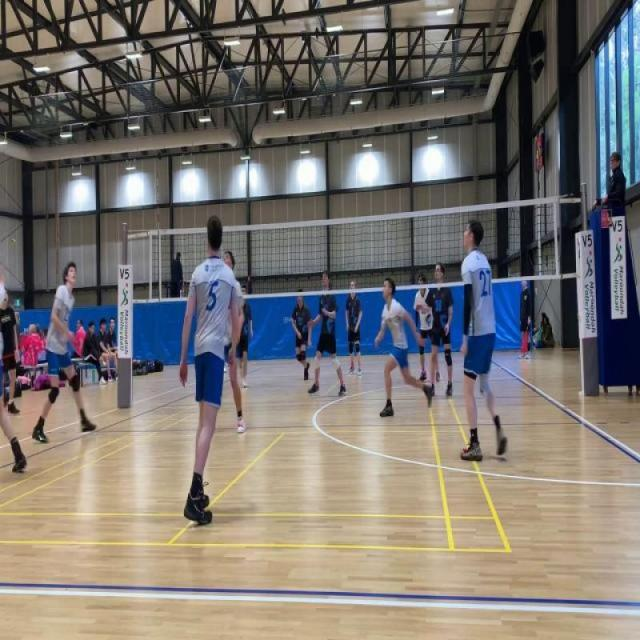volleyball: (11, 237, 16, 248)
